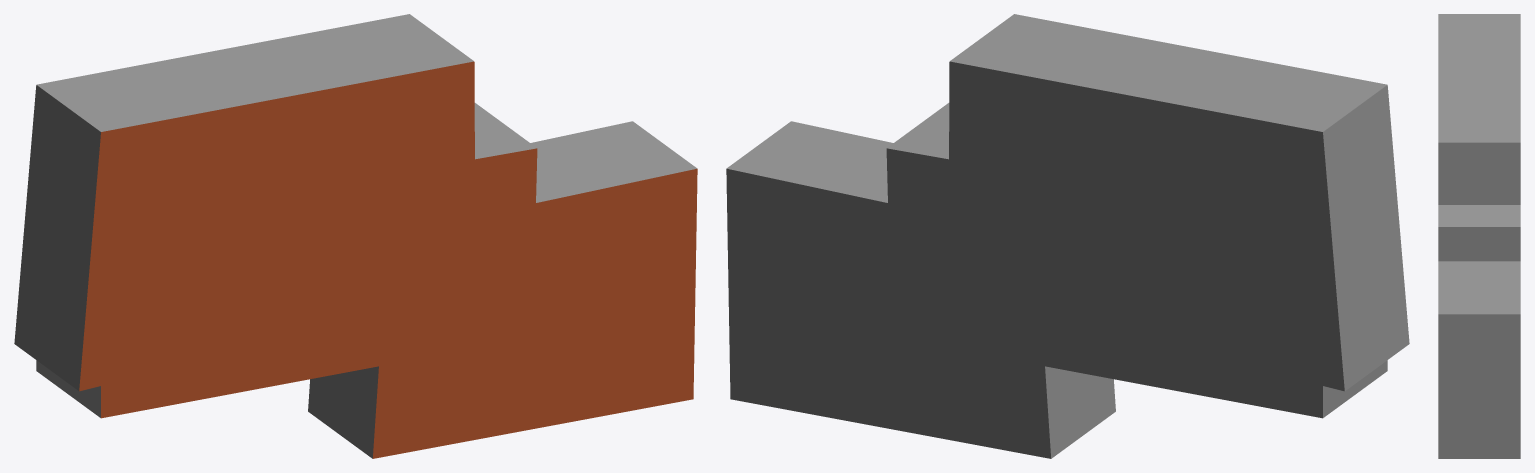
Rendered from construction_4702_assumed_A_Casa_h6m.obj.
3 renders of one model, left to right at view 1: azimuth 30°, elevation 25°; view 2: azimuth 150°, elevation 25°; view 3: azimuth 270°, elevation 25°, orthographic. The views are drawn at different scales.
Parts seen in each view (by area): view 1: construction_4702_assumed_A_Casa; view 2: construction_4702_assumed_A_Casa; view 3: construction_4702_assumed_A_Casa.
Part boxes in pixels (x1,y1,x2,y2): construction_4702_assumed_A_Casa: (14, 14, 697, 458); construction_4702_assumed_A_Casa: (726, 14, 1409, 458); construction_4702_assumed_A_Casa: (1438, 14, 1520, 458).
Size of the model in its own units: 33.06 by 21.03 by 6.
